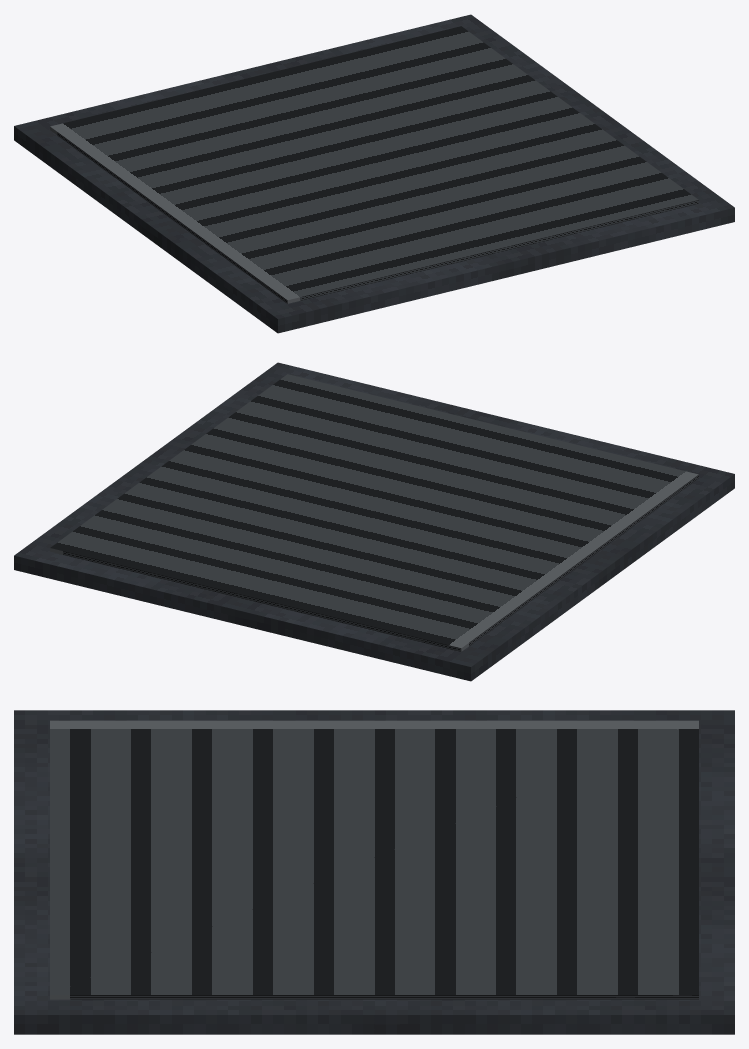
Rendered from tfg_sewer_grate.glb.
3 views of the same model, one above another, from view 1: azimuth 30°, elevation 25°; view 2: azimuth 150°, elevation 25°; view 3: azimuth 270°, elevation 25° (orthographic). The views are drawn at different scales.
Visible parts, largest first — view 1: tfg_sewer_grate; view 2: tfg_sewer_grate; view 3: tfg_sewer_grate.
Part boxes in pixels (x1,y1,x2,y2): tfg_sewer_grate: (14, 14, 734, 333); tfg_sewer_grate: (14, 362, 734, 681); tfg_sewer_grate: (14, 710, 734, 1034).
Bounding box in the file's own units: 1 × 0.0375 × 1.
Materials: 2 (2 with a texture image).
